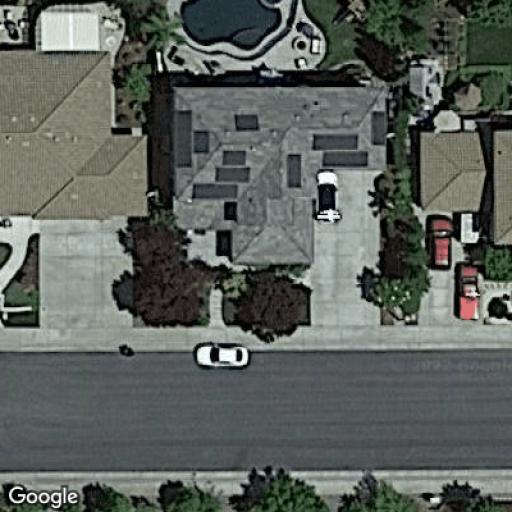solar-panel: (310, 130, 369, 168), (174, 110, 211, 168), (214, 149, 252, 184), (190, 182, 239, 200), (285, 152, 303, 189), (370, 110, 386, 146), (234, 112, 260, 132)
